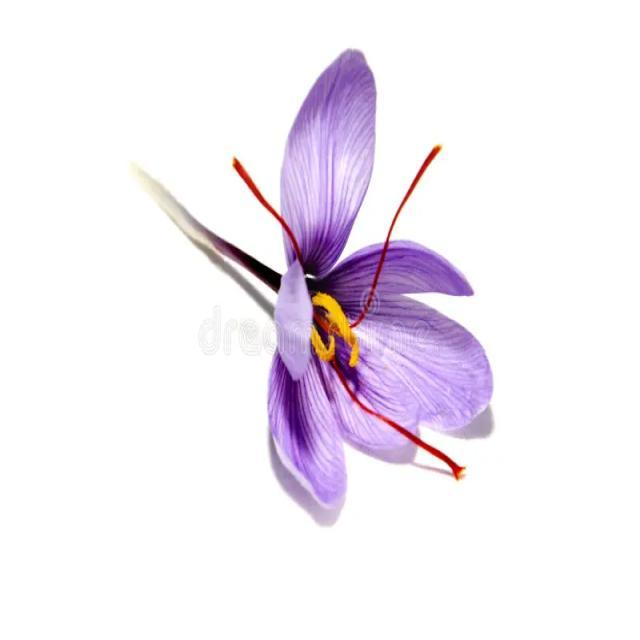Flower: (262, 141, 490, 510)
stigma: (353, 143, 443, 321), (339, 371, 464, 484), (223, 152, 303, 268)
